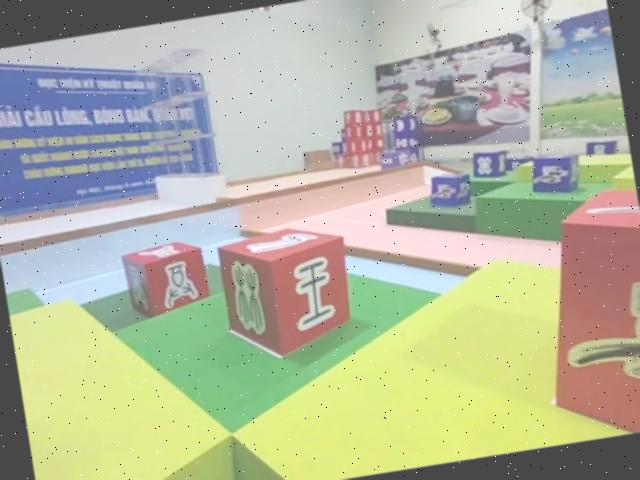R1: (516, 177, 640, 446)
R2 Fake: (213, 217, 359, 364)
R2 Real: (117, 236, 213, 330)
